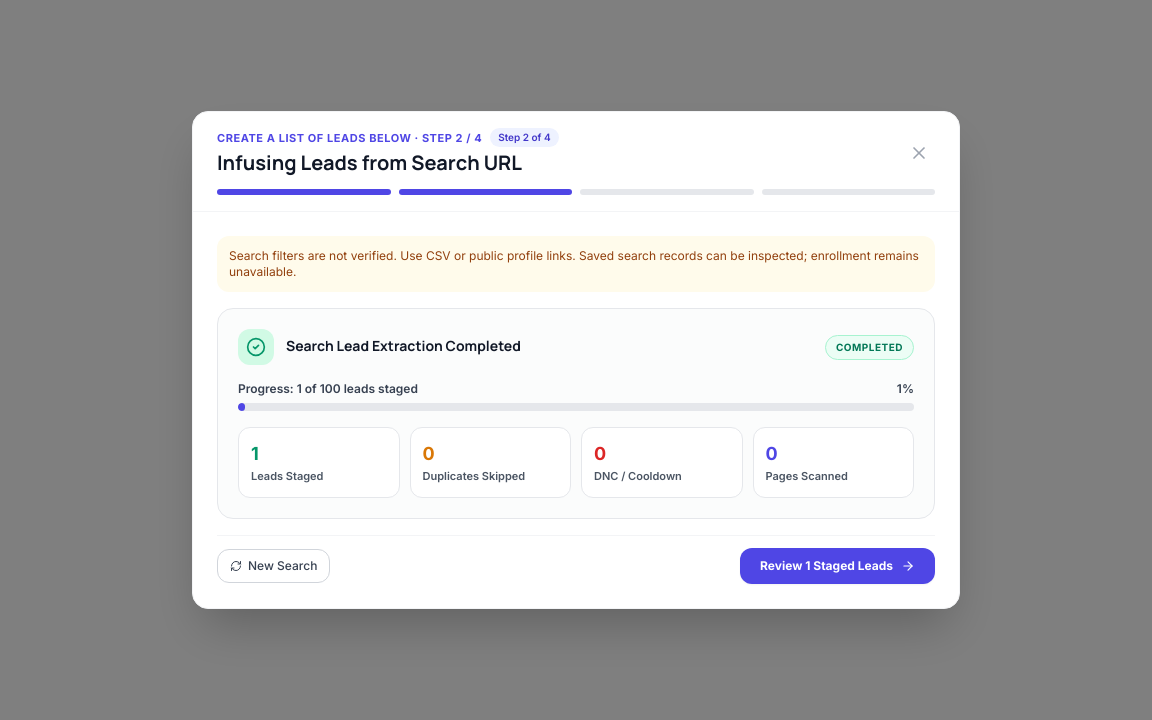
Test: Truthful search source availability › preserves saved search inspection and blocks its enrollment
Step 1. Click the button "Review 1 Staged Leads" → point(838, 566), box left=740, top=548, right=935, bottom=584
(page scrolled)
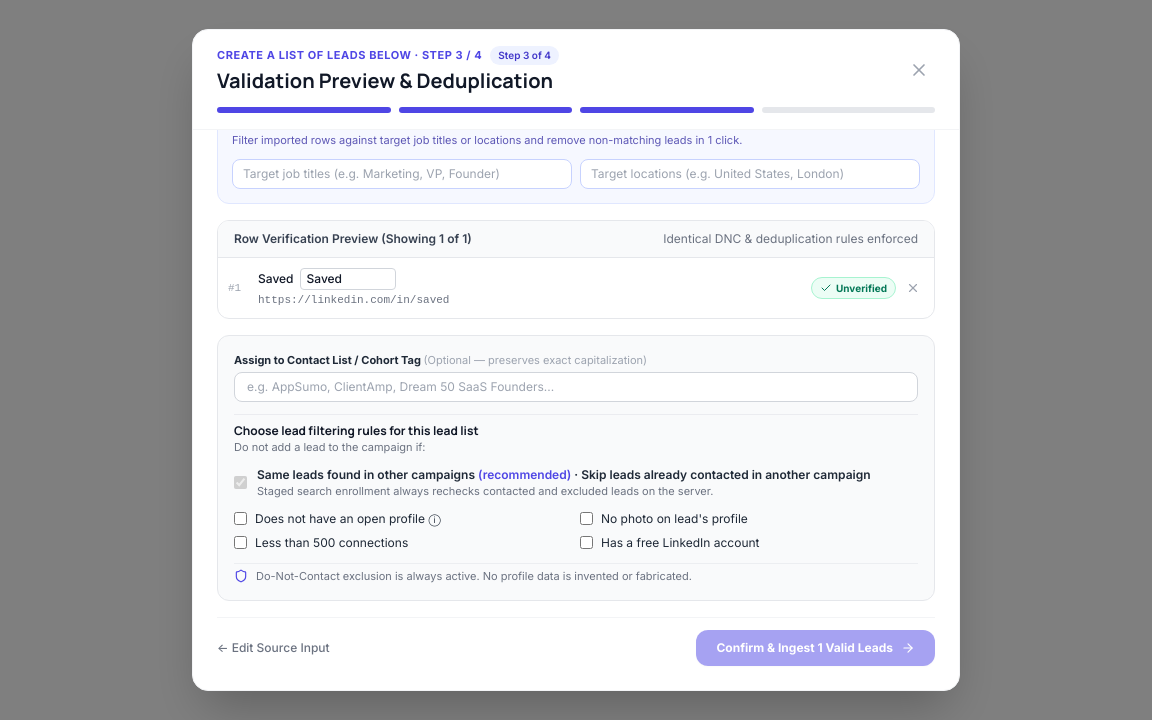
Expected: the button "Confirm & Ingest 1 Valid Leads" is disabled, left=696, top=630, right=935, bottom=666
